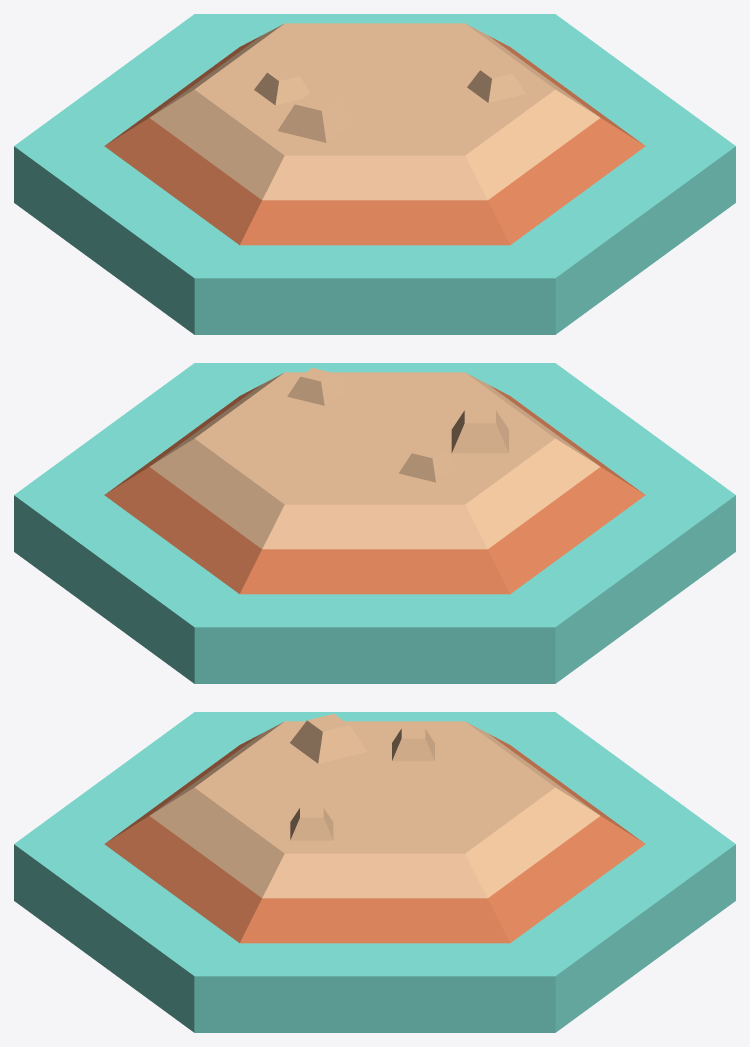
File: Water Island.glb
3 views of the same model, one above another, from view 1: azimuth 30°, elevation 25°; view 2: azimuth 150°, elevation 25°; view 3: azimuth 270°, elevation 25° (orthographic).
Visible parts, largest first — view 1: water_island, rock.001, rock, rock.002; view 2: water_island, rock.001, rock.002, rock; view 3: water_island, rock.001, rock, rock.002.
Boxes of the visible parts, x1,y1,x2,y2 form: water_island: (14,14,735,334); rock.001: (277,93,354,142); rock: (467,65,525,102); rock.002: (254,67,310,105); water_island: (14,363,735,683); rock.001: (451,410,508,453); rock.002: (398,444,457,482); rock: (287,368,345,405); water_island: (14,712,735,1032); rock.001: (290,714,366,763); rock: (290,807,333,840); rock.002: (392,728,434,761).
Bounding box in the file's own units: 1 × 0.2435 × 1.15.
